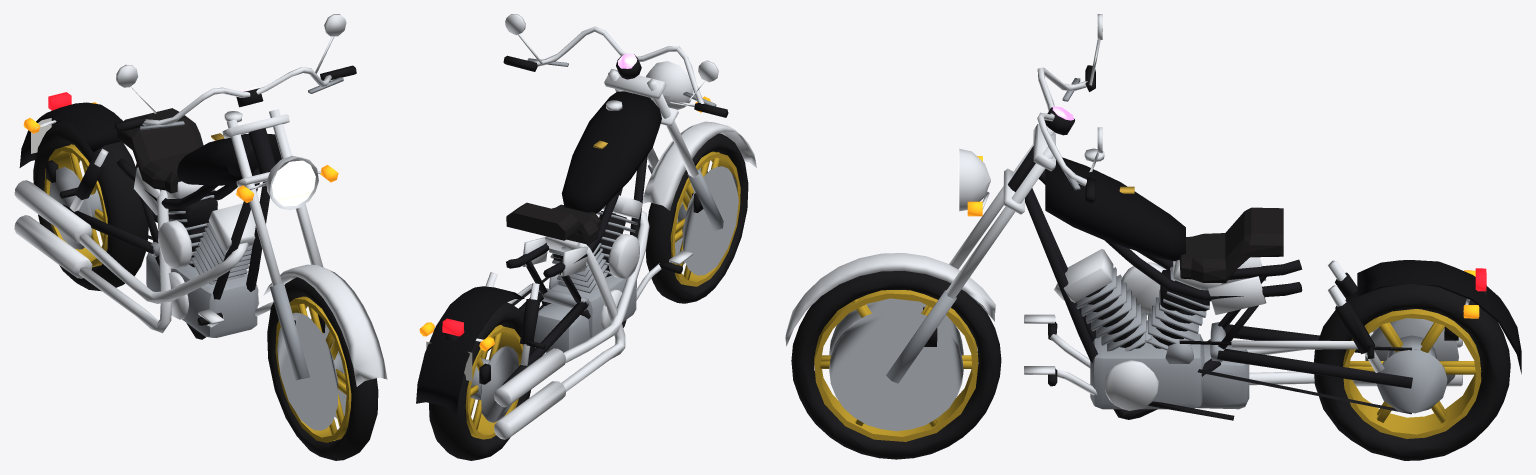
File: midnight-rebel-750_lod1.glb
The picture shows the model from 3 angles, left to right: view 1: azimuth 30°, elevation 25°; view 2: azimuth 150°, elevation 25°; view 3: azimuth 270°, elevation 25°; orthographic projection. The views are drawn at different scales.
Visible parts, largest first — view 1: LOD1; view 2: LOD1; view 3: LOD1.
Part boxes in pixels (left/top/right/bottom): LOD1: left=14, top=14, right=387, bottom=460; LOD1: left=416, top=14, right=756, bottom=460; LOD1: left=785, top=14, right=1521, bottom=460.
Size of the model in its own units: 0.96 by 1.34 by 2.31.
